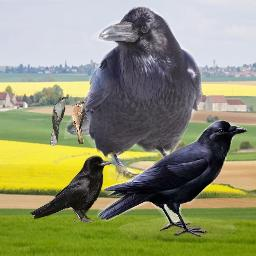Crow: (64, 4, 202, 181), (97, 120, 247, 239), (29, 155, 113, 223)
Cuckoo: (50, 96, 68, 146), (72, 101, 87, 144)
